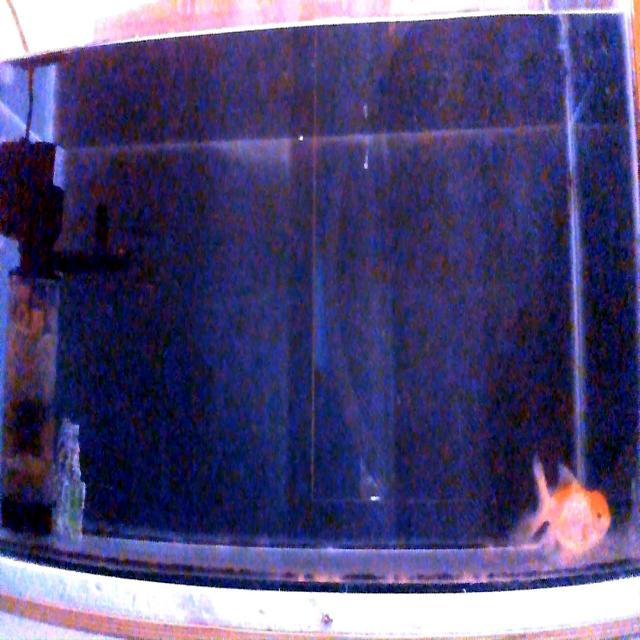fish: (522, 452, 610, 559)
